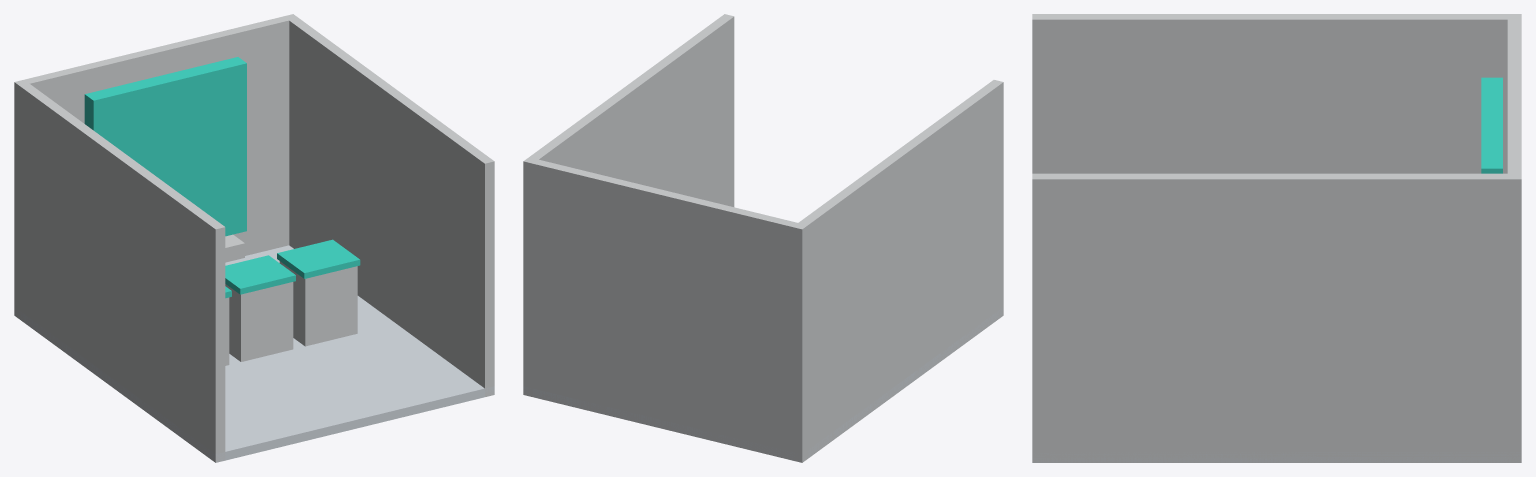
3 renders of one model, left to right at view 1: azimuth 30°, elevation 25°; view 2: azimuth 150°, elevation 25°; view 3: azimuth 270°, elevation 25°, orthographic. The views are drawn at different scales.
Parts seen in each view (by area): view 1: Exhibition Booth Concept; view 2: Exhibition Booth Concept; view 3: Exhibition Booth Concept.
Part boxes in pixels (x1,y1,x2,y2): Exhibition Booth Concept: (14, 14, 494, 462); Exhibition Booth Concept: (523, 14, 1003, 462); Exhibition Booth Concept: (1032, 14, 1521, 462).
Size of the model in its own units: 4 by 3.2 by 5.
